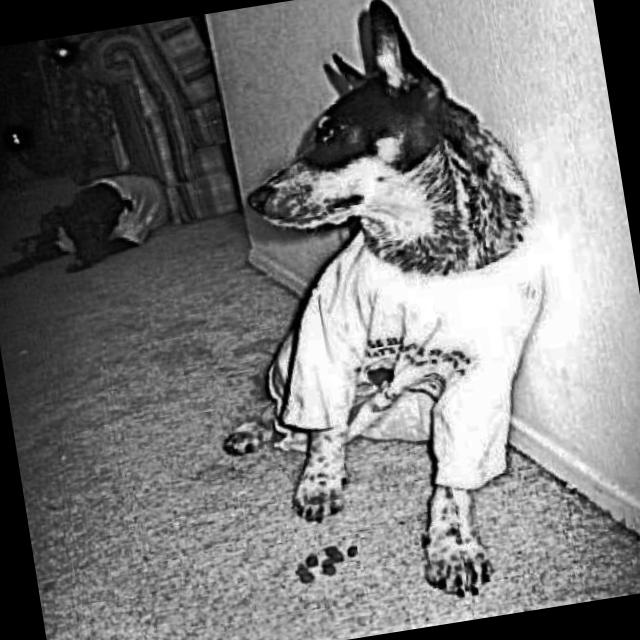Dog: (143, 0, 602, 631)
